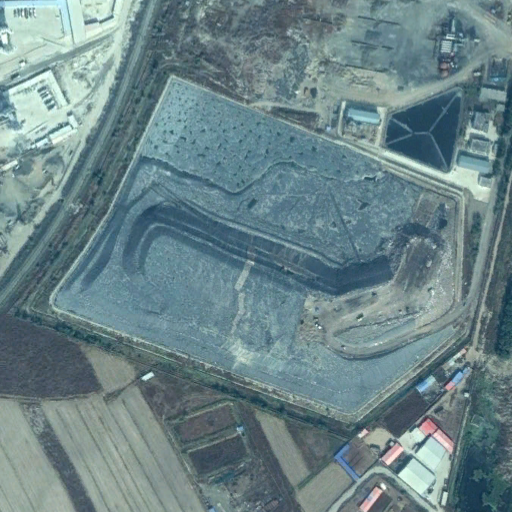lf: (51, 75, 461, 419)
